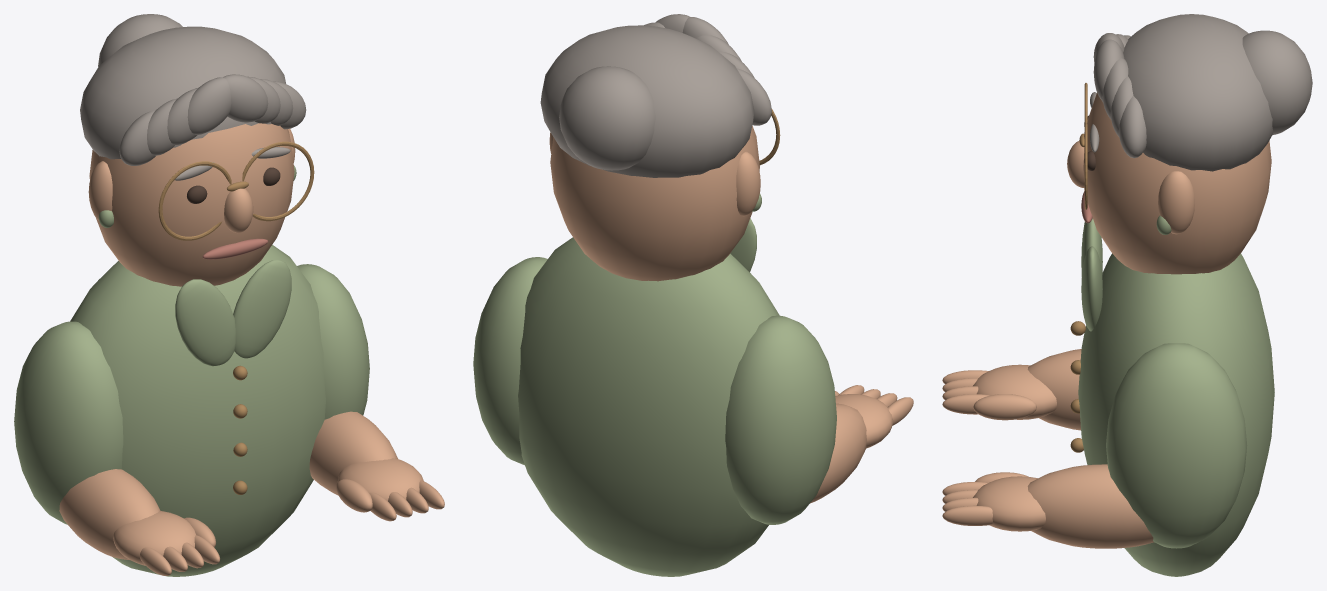
Rendered from margaret.glb.
3 views of the same model, side by side, from view 1: azimuth 30°, elevation 25°; view 2: azimuth 150°, elevation 25°; view 3: azimuth 270°, elevation 25° (orthographic). The views are drawn at different scales.
Parts seen in each view (by area): view 1: Blouse, Head, Sleeve, Silver waves, Sleeve.001, Forearm, Linen collar, Forearm.001, Linen collar.001, Palm, Palm.001, Swept silver wave (+15 smaller); view 2: Blouse, Head, Sleeve, Silver waves, Bun, Sleeve.001, Forearm, Palm, Ear, Swept silver wave.003, Linen collar, Swept silver wave; view 3: Blouse, Sleeve.001, Silver waves, Head, Forearm.001, Bun, Palm.001, Forearm, Palm, Ear.001, Linen collar.001, Thumb (+8 smaller).
Boxes of the visible parts, x1=… form: Blouse: x1=70, y1=245, x2=325, y2=576; Head: x1=89, y1=123, x2=294, y2=286; Sleeve: x1=14, y1=321, x2=123, y2=524; Silver waves: x1=80, y1=26, x2=285, y2=159; Sleeve.001: x1=297, y1=264, x2=369, y2=419; Forearm: x1=59, y1=469, x2=160, y2=560; Linen collar: x1=175, y1=279, x2=235, y2=366; Forearm.001: x1=309, y1=411, x2=397, y2=495; Linen collar.001: x1=233, y1=260, x2=291, y2=358; Palm: x1=113, y1=511, x2=195, y2=565; Palm.001: x1=337, y1=458, x2=423, y2=500; Swept silver wave: x1=187, y1=77, x2=231, y2=134; Blouse: x1=518, y1=237, x2=779, y2=576; Head: x1=550, y1=126, x2=759, y2=281; Sleeve: x1=725, y1=315, x2=836, y2=524; Silver waves: x1=540, y1=25, x2=754, y2=177; Bun: x1=559, y1=66, x2=655, y2=170; Sleeve.001: x1=473, y1=257, x2=547, y2=465; Forearm: x1=810, y1=403, x2=866, y2=503; Palm: x1=835, y1=394, x2=893, y2=448; Ear: x1=736, y1=151, x2=760, y2=216; Swept silver wave.003: x1=736, y1=68, x2=771, y2=125; Linen collar: x1=730, y1=218, x2=756, y2=271; Swept silver wave: x1=682, y1=17, x2=728, y2=44; Blouse: x1=1078, y1=253, x2=1274, y2=576; Sleeve.001: x1=1106, y1=343, x2=1247, y2=548; Silver waves: x1=1123, y1=14, x2=1273, y2=171; Head: x1=1083, y1=92, x2=1271, y2=274; Forearm.001: x1=1027, y1=464, x2=1153, y2=548; Bun: x1=1242, y1=30, x2=1312, y2=134; Palm.001: x1=973, y1=476, x2=1045, y2=531; Forearm: x1=1027, y1=349, x2=1081, y2=430; Palm: x1=973, y1=364, x2=1056, y2=419; Ear.001: x1=1158, y1=171, x2=1194, y2=234; Linen collar.001: x1=1081, y1=246, x2=1102, y2=331; Thumb: x1=973, y1=394, x2=1036, y2=420.
Size of the model in its own units: 1.28 by 1.93 by 1.21.
